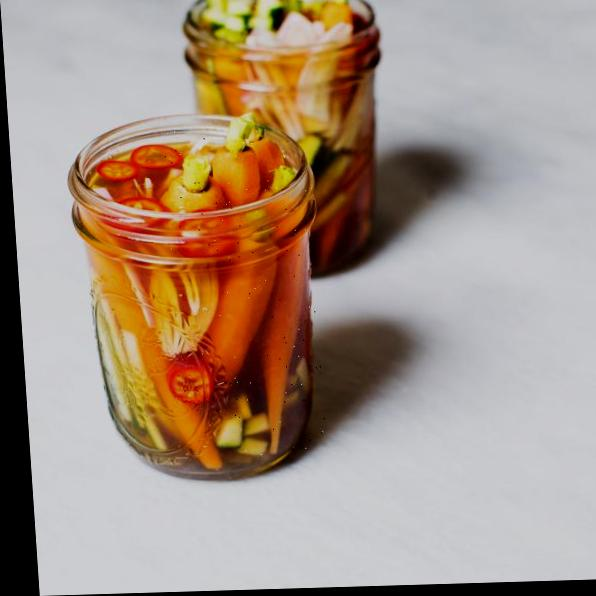carrots: (162, 125, 328, 457)
